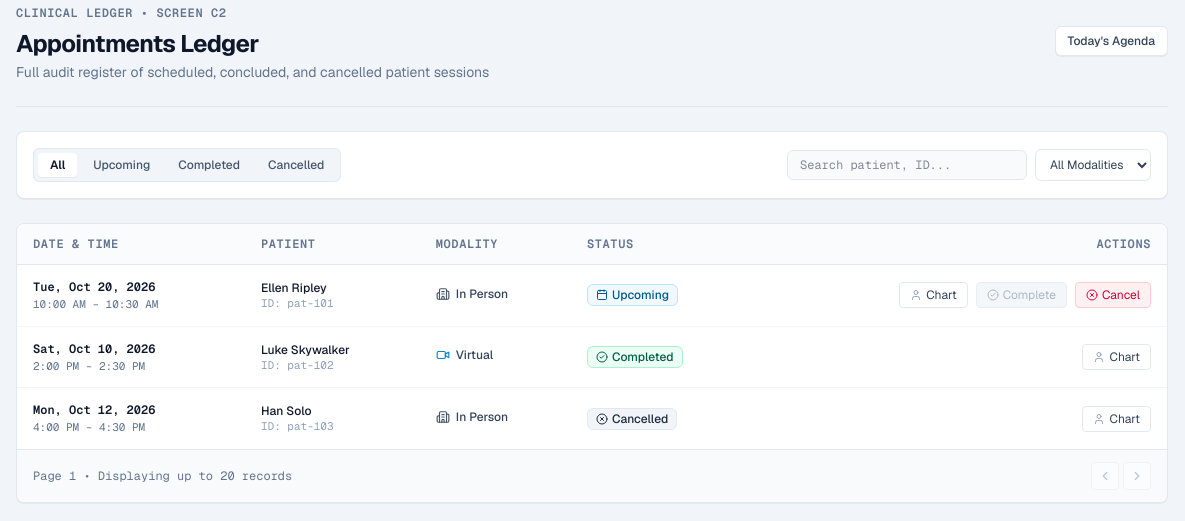
Test: DoctorAppointmentsList Component (Screen C2) › filters appointments by status tabs
Expected: the text "Ellen Ripley" is shown, top-left (261, 280), bottom-right (327, 296)
// Click 'completed' filter
Click the button "completed": (209, 165) top-left (166, 153), bottom-right (252, 177)
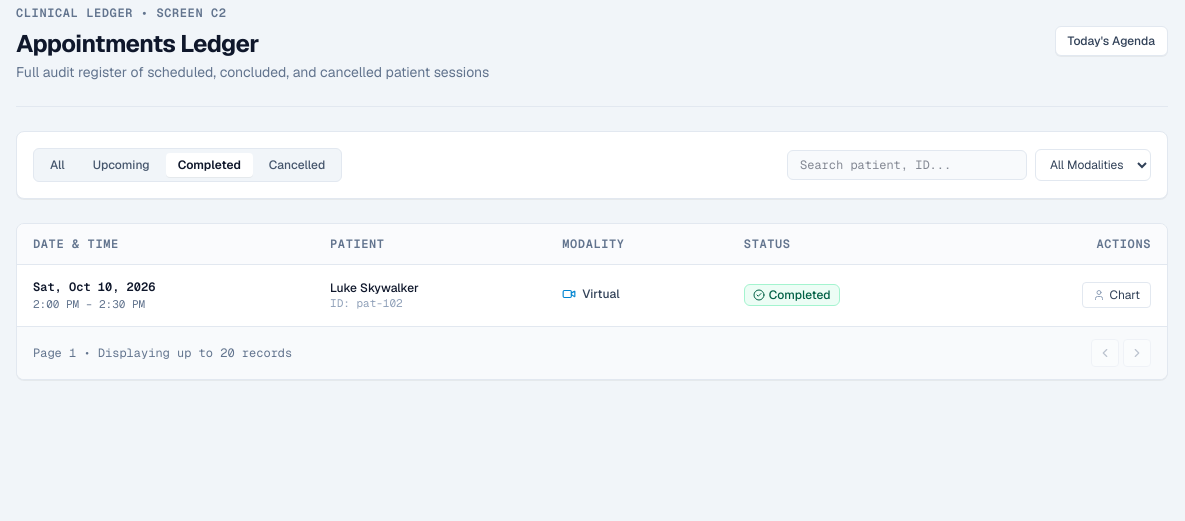
Expected: the text "Luke Skywalker" is shown, top-left (330, 280), bottom-right (419, 296)
Result: the text "Ellen Ripley" is gone
Result: the text "Han Solo" is gone
